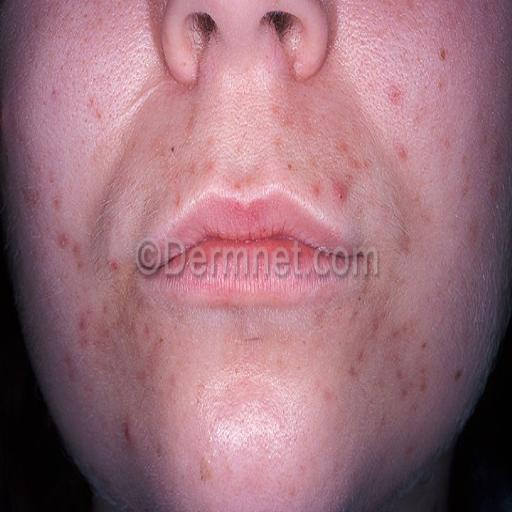Skin_Lesion: (119, 417, 143, 466), (197, 454, 219, 500), (244, 316, 266, 347), (394, 229, 412, 264), (348, 347, 367, 380), (394, 368, 409, 406), (385, 84, 403, 110), (418, 376, 434, 404), (62, 351, 75, 384), (22, 193, 49, 208), (59, 230, 74, 256), (396, 139, 409, 167), (200, 154, 218, 174), (88, 97, 104, 119), (74, 308, 88, 333), (170, 190, 185, 212), (338, 140, 353, 161), (463, 221, 477, 243), (492, 146, 504, 171), (367, 316, 381, 337), (111, 251, 123, 275), (283, 153, 295, 176), (140, 322, 155, 340), (334, 184, 347, 204), (234, 174, 248, 192), (452, 365, 464, 383), (310, 183, 321, 198), (438, 46, 447, 64), (418, 336, 426, 352), (138, 366, 146, 375)
